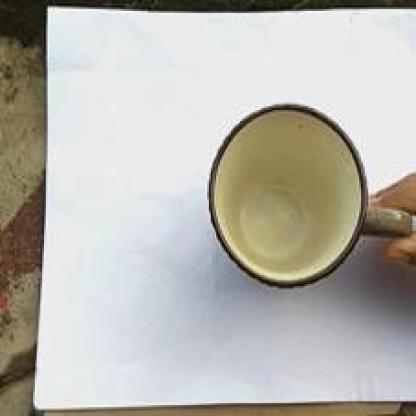mug: (198, 100, 415, 317)
